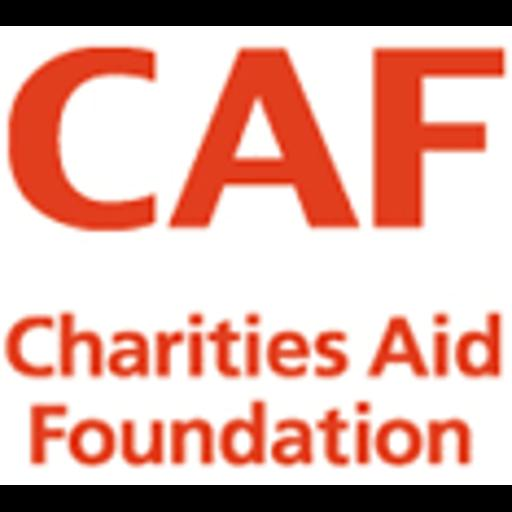Charities Aid Foundation: (0, 26, 512, 485)
